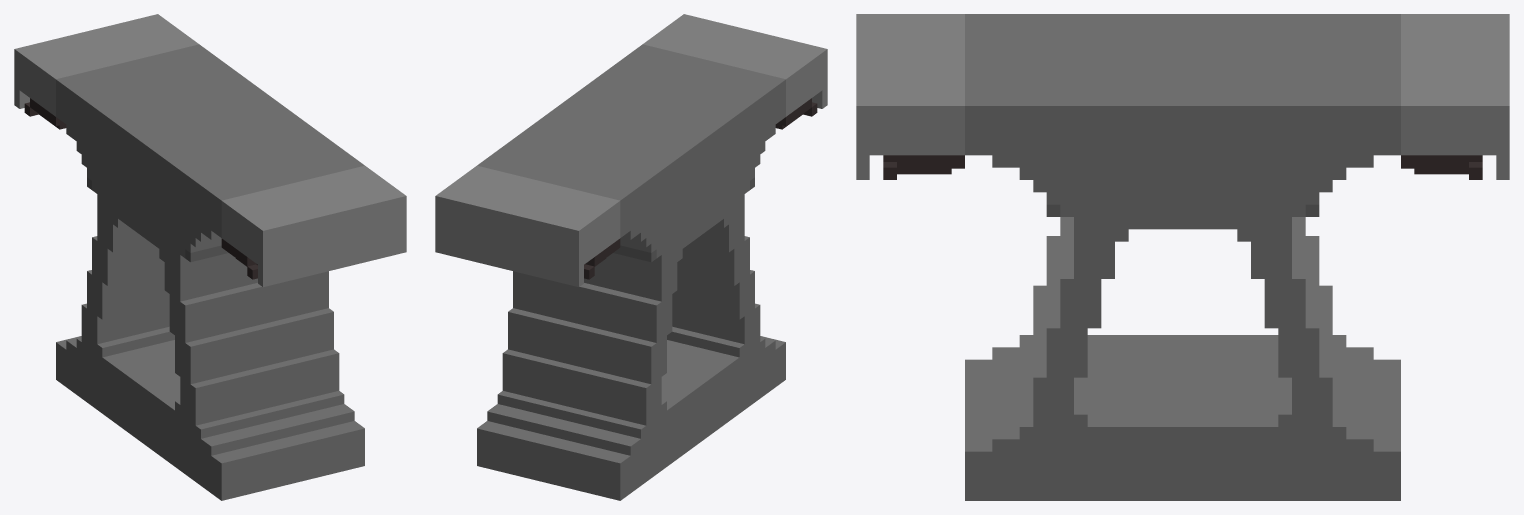
File: trtrack.obj
The picture shows the model from 3 angles, left to right: view 1: azimuth 30°, elevation 25°; view 2: azimuth 150°, elevation 25°; view 3: azimuth 270°, elevation 25°; orthographic projection. The views are drawn at different scales.
Parts seen in each view (by area): view 1: RAIL_BASE, RAIL_LEFT, RAIL_RIGHT; view 2: RAIL_BASE, RAIL_RIGHT, RAIL_LEFT; view 3: RAIL_BASE, RAIL_LEFT, RAIL_RIGHT.
Boxes of the visible parts, x1,y1,x2,y2 form: RAIL_BASE: (56, 44, 364, 500); RAIL_LEFT: (221, 165, 406, 286); RAIL_RIGHT: (14, 14, 198, 129); RAIL_BASE: (477, 44, 785, 500); RAIL_RIGHT: (435, 165, 620, 286); RAIL_LEFT: (643, 14, 827, 129); RAIL_BASE: (965, 14, 1400, 500); RAIL_LEFT: (856, 14, 964, 179); RAIL_RIGHT: (1401, 14, 1509, 179).
Bounding box in the file's own units: 1 × 2 × 3.
Materials: 1 (1 with a texture image).
